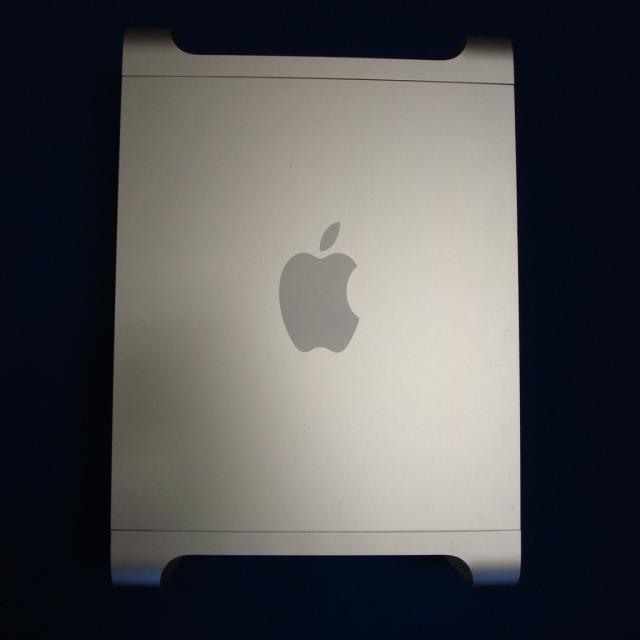Healty Apple: (278, 223, 358, 354)
